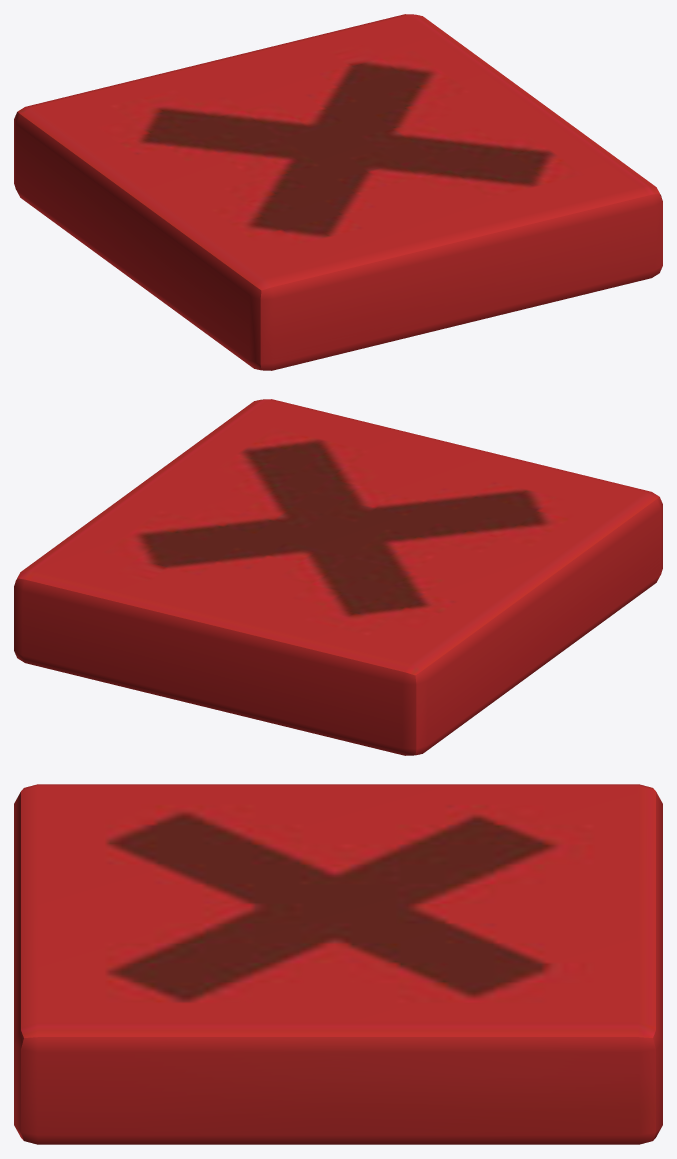
Rendered from stand_lose.fbx.
3 renders of one model, top to bottom at view 1: azimuth 30°, elevation 25°; view 2: azimuth 150°, elevation 25°; view 3: azimuth 270°, elevation 25°, orthographic. The views are drawn at different scales.
Visible parts, largest first — view 1: stand_lose; view 2: stand_lose; view 3: stand_lose.
Part boxes in pixels (box(x1,y1,x2,y2)): stand_lose: box(14, 14, 662, 370); stand_lose: box(14, 399, 662, 755); stand_lose: box(14, 784, 662, 1144).
Size of the model in its own units: 689 by 146 by 731.
Materials: 1 (1 with a texture image).
